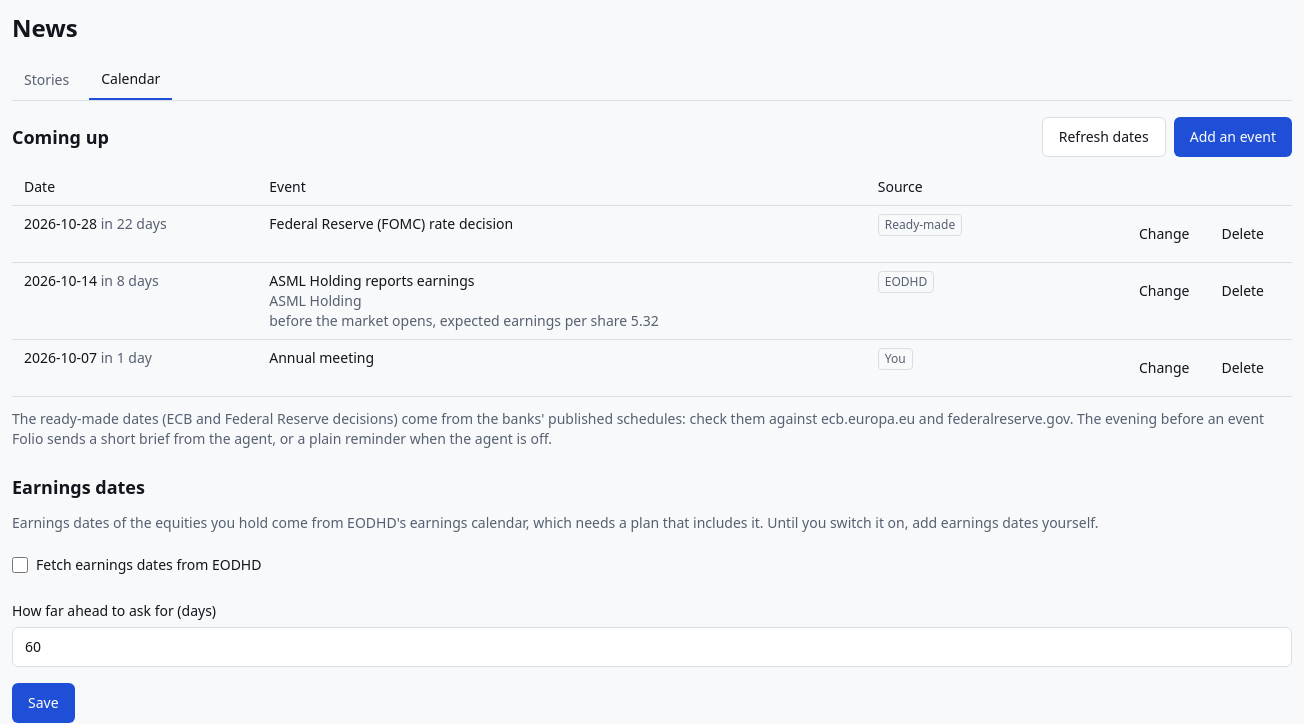
Test: the calendar tab (FR-NW-09) › asks the worker to refresh the dates
Click the button "Refresh dates": click(1104, 137) [1042,117,1166,157]
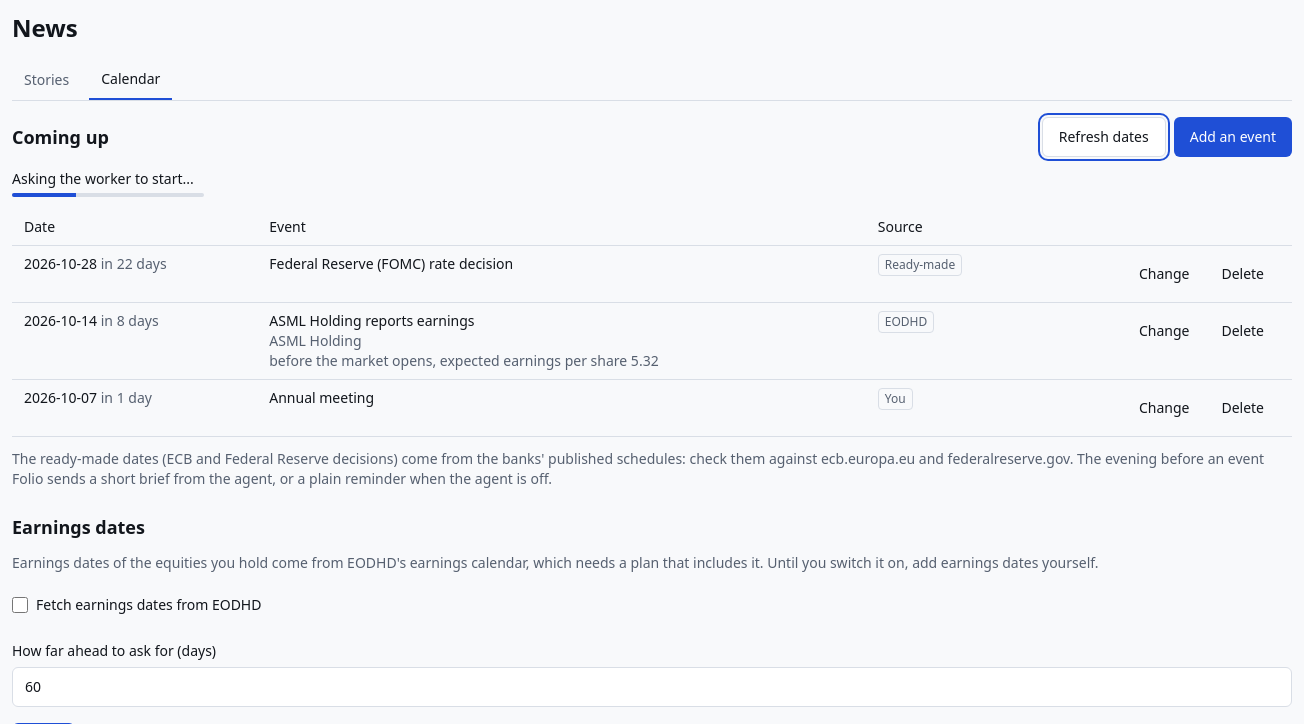
Now the text "Asking the worker to start..." is shown, box [12,169,194,188]
